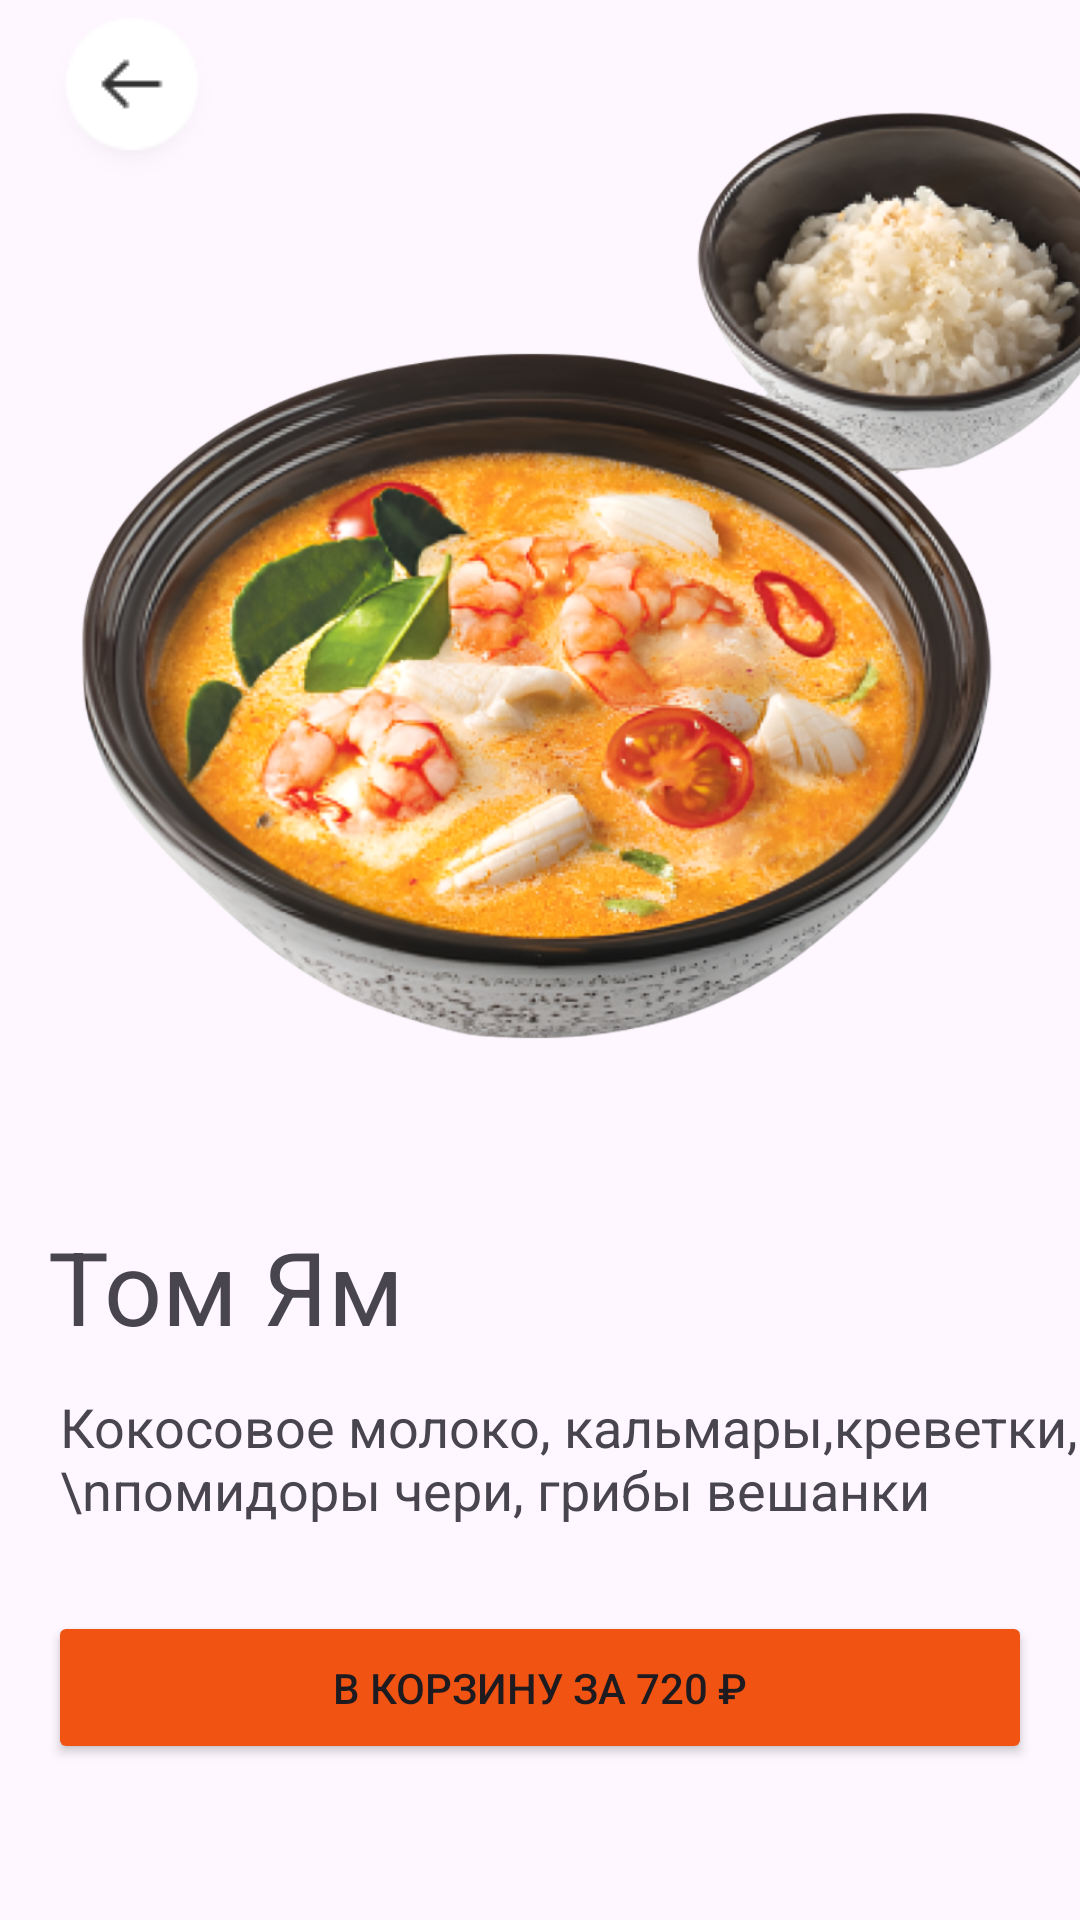

Screen size 1080px x 1920px. Icon name, then its center in pixels as point (x, y):
back: point (132, 84)
